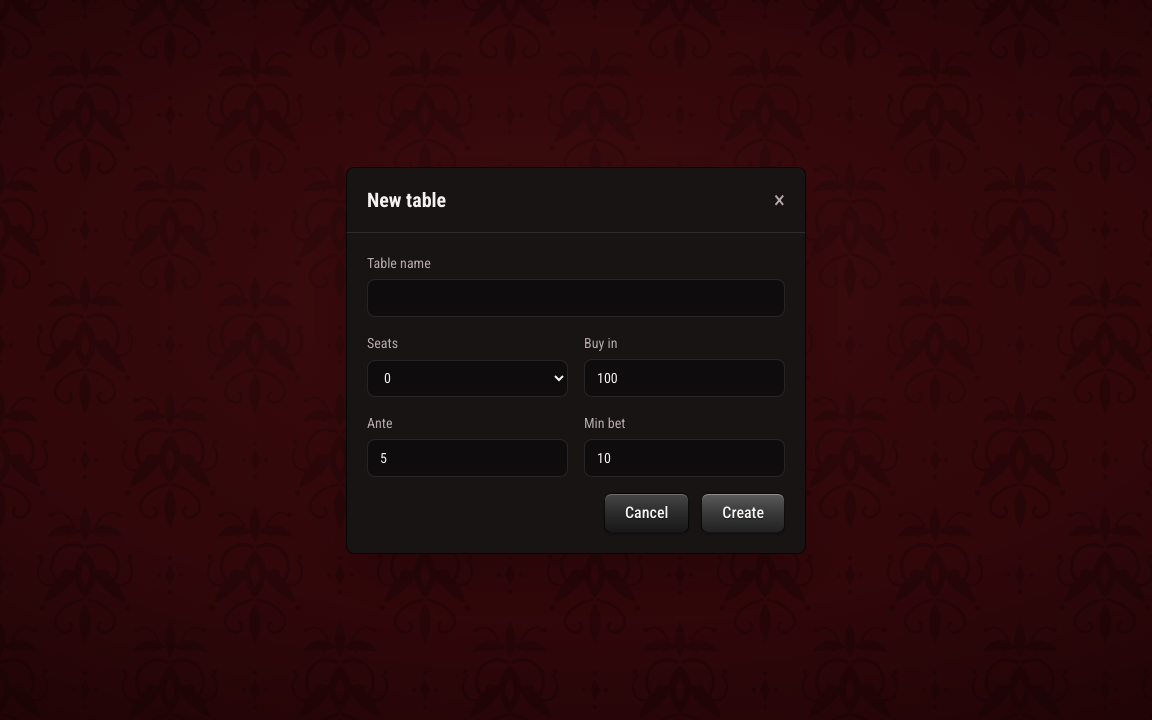
Test case: NewTableForm › shows the error
In the field labelled "Table name": (576, 298) [367,278,785,316], type "My Table"
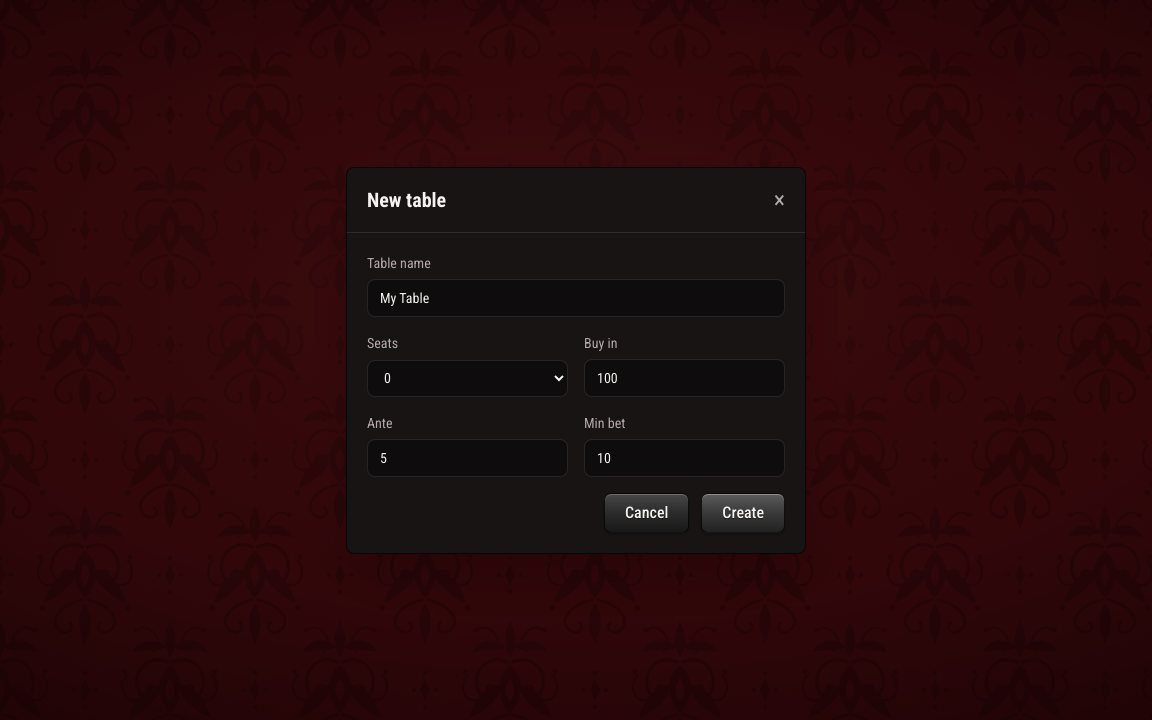
Click the button "Create": (743, 512) [701,492,785,532]
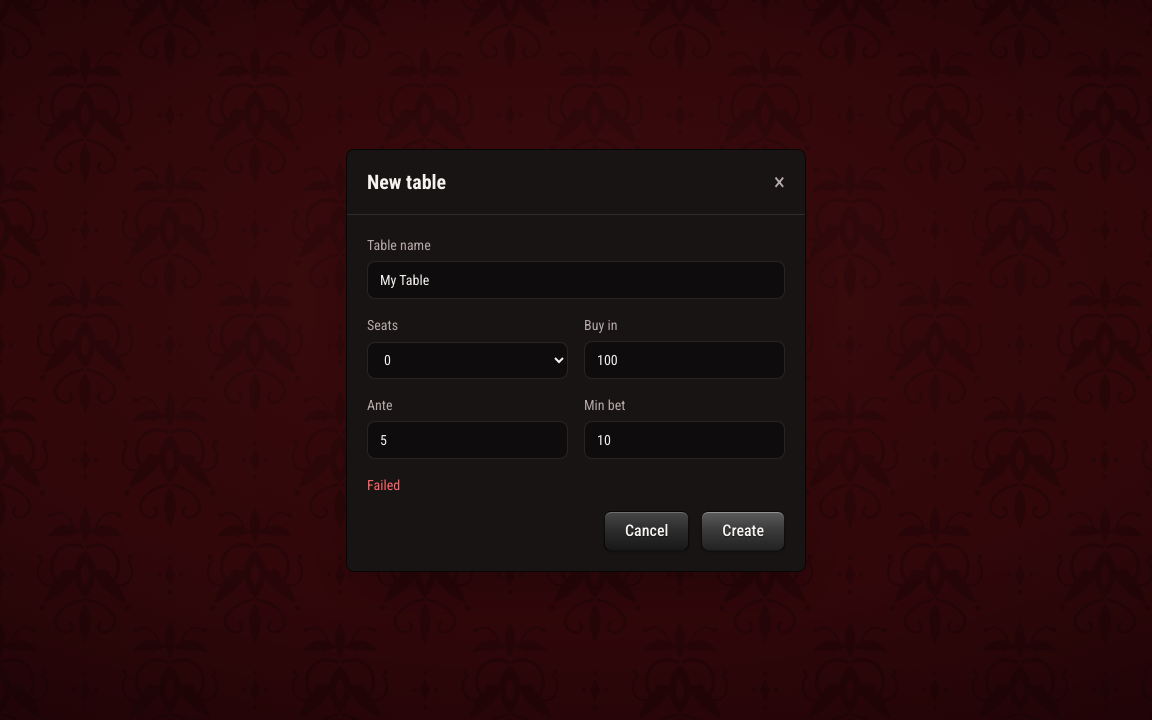
Now the text "Failed" is shown, box [367,476,400,492]
